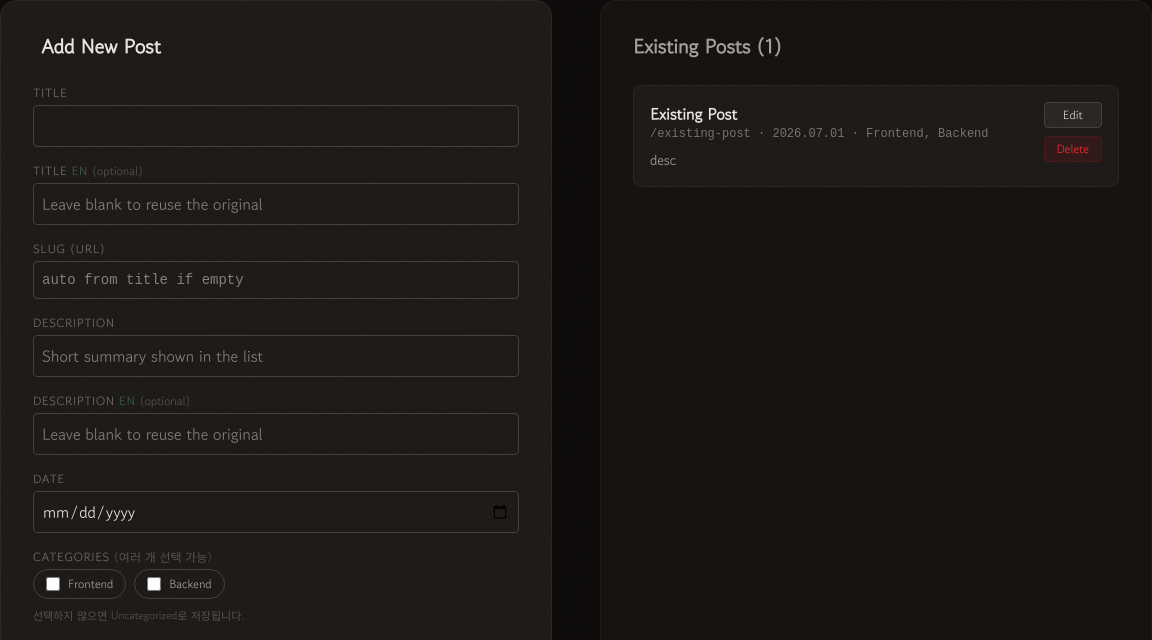
Test: PostManager categories › pre-checks the post's categories when editing
Click the button "Edit".
click(1073, 115)  # box [1044,102,1102,128]
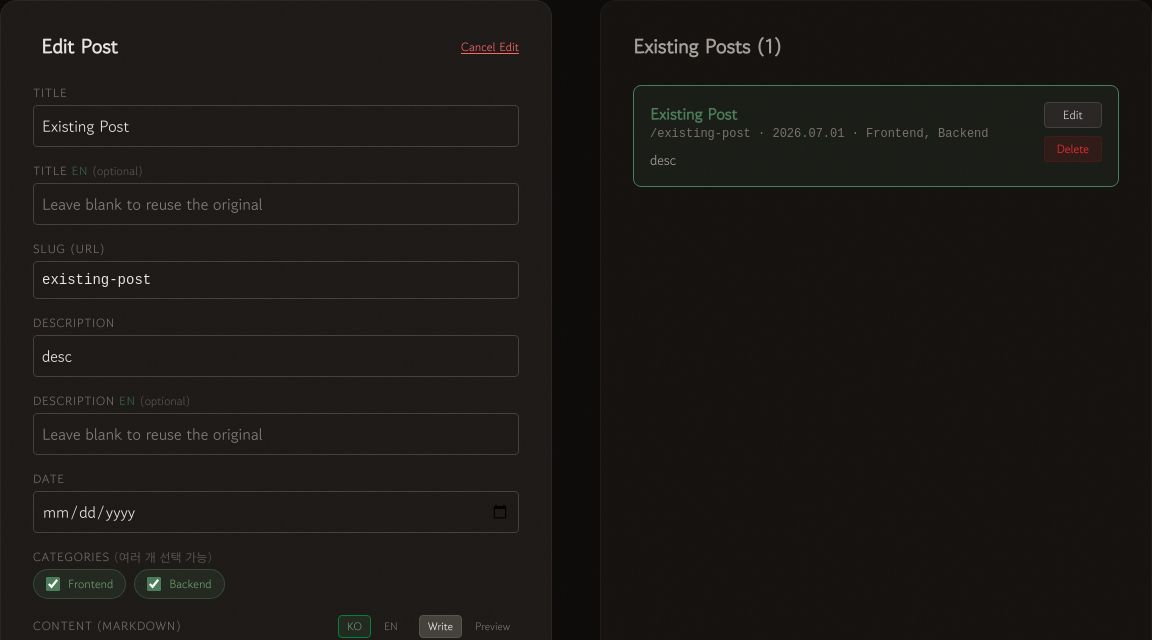
Result: the checkbox labelled "Frontend" is checked at [46,577,60,591]
Result: the checkbox labelled "Backend" is checked at [147,577,161,591]
